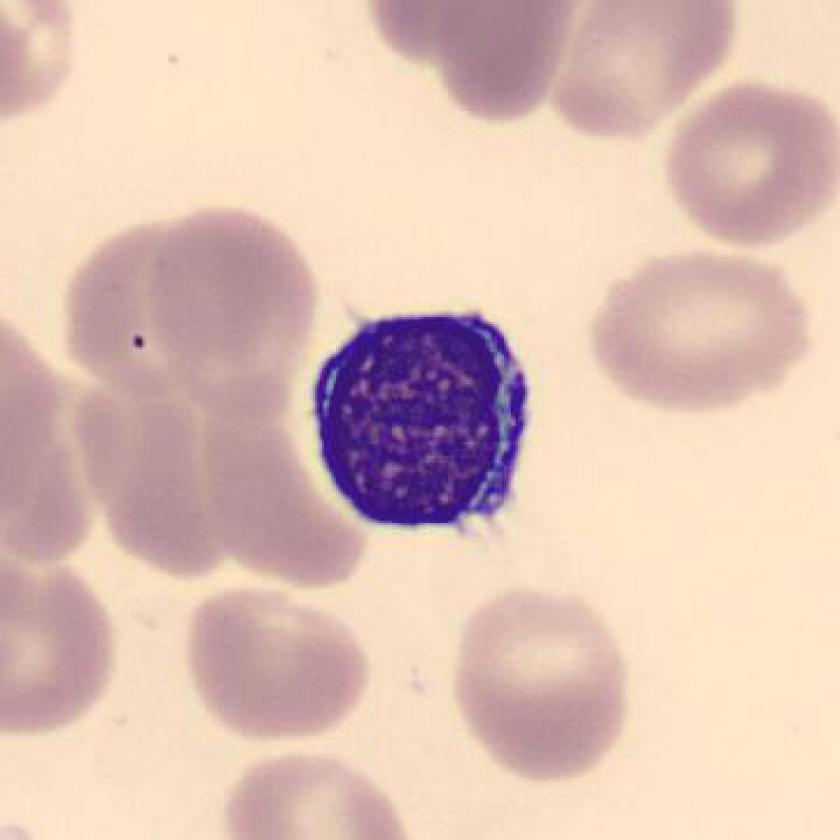lymphocyte: (293, 293, 547, 547)
